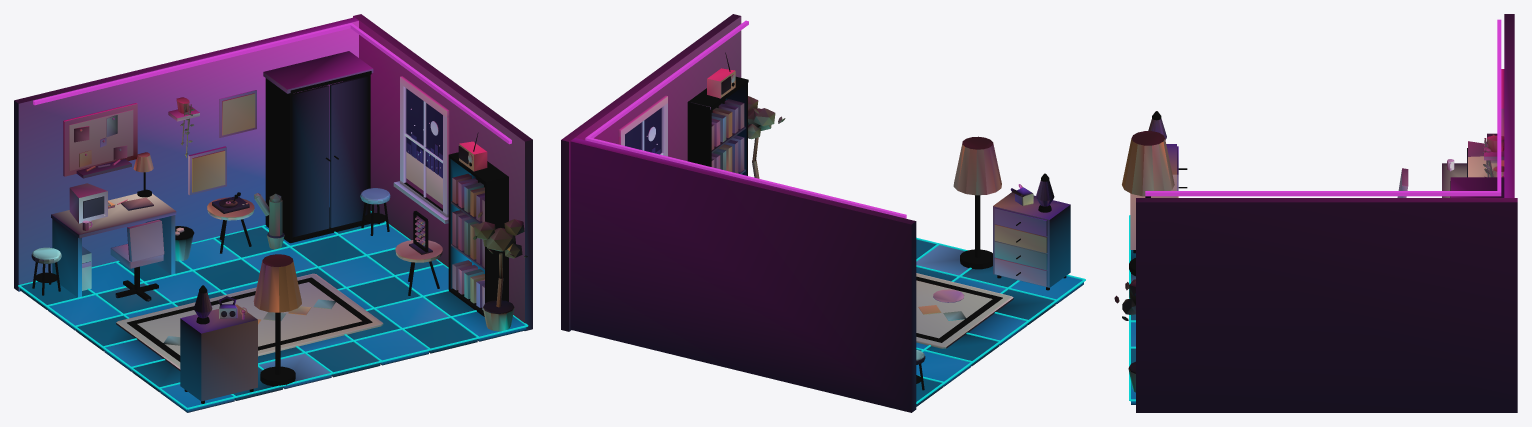
The model's file is room.glb.
3 renders of one model, left to right at view 1: azimuth 30°, elevation 25°; view 2: azimuth 150°, elevation 25°; view 3: azimuth 270°, elevation 25°, orthographic. The views are drawn at different scales.
Visible parts, largest first — view 1: room_wall_back, room_floor_tiles, deco_armadio_01, room_wall_right, deco_tappeto_01, deco_libreria_01.001, hotspot_uiux_desk.001, deco_cassettiera_01, room_floor_seams, deco_finestra_01, hotspot_graphicdesign_corkboard.001, room_led_strip (+17 smaller); view 2: room_wall_back, room_wall_right, room_floor_tiles, deco_cassettiera_01, deco_libreria_01.001, deco_tappeto_01, room_led_strip, deco_lampada_01_shade.002, deco_finestra_01, room_floor_seams, deco_ficus_01, deco_lampada_01_base.002 (+2 smaller); view 3: room_wall_right, room_led_strip, deco_lampada_01_shade.002, room_wall_back, hotspot_uiux_desk.001, deco_armadio_01, deco_cassettiera_01, deco_ficus_01, deco_pothos_01.001, room_floor_tiles.
Part boxes in pixels (bbox=[...]): room_wall_back: bbox=[14, 17, 358, 291]; room_floor_tiles: bbox=[20, 212, 526, 412]; deco_armadio_01: bbox=[263, 51, 373, 243]; room_wall_right: bbox=[353, 14, 532, 330]; deco_tappeto_01: bbox=[116, 273, 383, 370]; deco_libreria_01.001: bbox=[448, 152, 508, 316]; hotspot_uiux_desk.001: bbox=[51, 183, 176, 297]; deco_cassettiera_01: bbox=[180, 304, 257, 403]; room_floor_seams: bbox=[18, 211, 528, 409]; deco_finestra_01: bbox=[393, 76, 449, 223]; hotspot_graphicdesign_corkboard.001: bbox=[63, 103, 137, 178]; room_led_strip: bbox=[33, 23, 511, 144]; room_wall_back: bbox=[570, 138, 916, 412]; room_wall_right: bbox=[561, 14, 741, 331]; room_floor_tiles: bbox=[916, 239, 1083, 406]; deco_cassettiera_01: bbox=[993, 192, 1070, 290]; deco_libreria_01.001: bbox=[687, 76, 748, 175]; deco_tappeto_01: bbox=[916, 273, 1013, 348]; room_led_strip: bbox=[585, 20, 906, 218]; deco_lampada_01_shade.002: bbox=[953, 136, 1001, 195]; deco_finestra_01: bbox=[618, 95, 667, 156]; room_floor_seams: bbox=[916, 237, 1085, 403]; deco_ficus_01: bbox=[748, 96, 785, 178]; deco_lampada_01_base.002: bbox=[960, 195, 992, 269]; room_wall_right: bbox=[1136, 198, 1517, 412]; room_led_strip: bbox=[1145, 19, 1501, 196]; deco_lampada_01_shade.002: bbox=[1122, 131, 1174, 196]; room_wall_back: bbox=[1504, 14, 1514, 197]; hotspot_uiux_desk.001: bbox=[1442, 141, 1497, 197]; deco_armadio_01: bbox=[1450, 177, 1504, 197]; deco_cassettiera_01: bbox=[1130, 144, 1187, 253]; deco_ficus_01: bbox=[1114, 279, 1135, 392]; deco_pothos_01.001: bbox=[1483, 135, 1504, 177]; room_floor_tiles: bbox=[1131, 250, 1135, 404].
Size of the model in its own units: 4.31 by 2.24 by 3.88.
